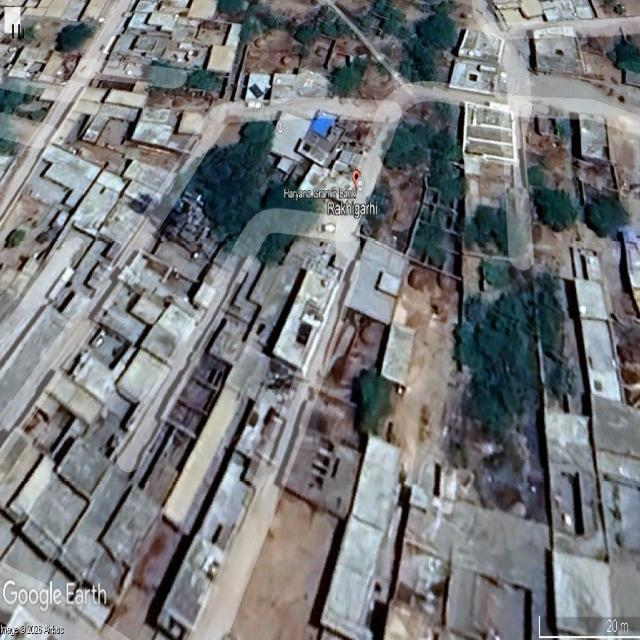objects-ruins-artifacts: (372, 106, 605, 493), (50, 46, 286, 321)
